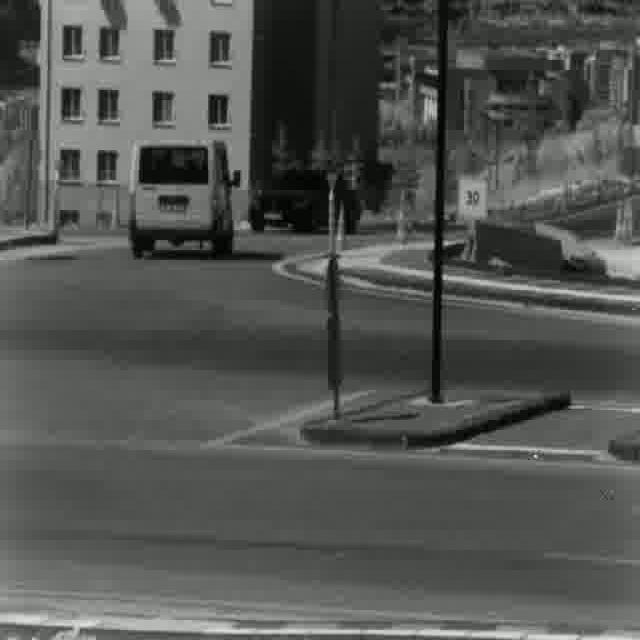Car: (129, 140, 235, 258), (248, 168, 360, 236)
